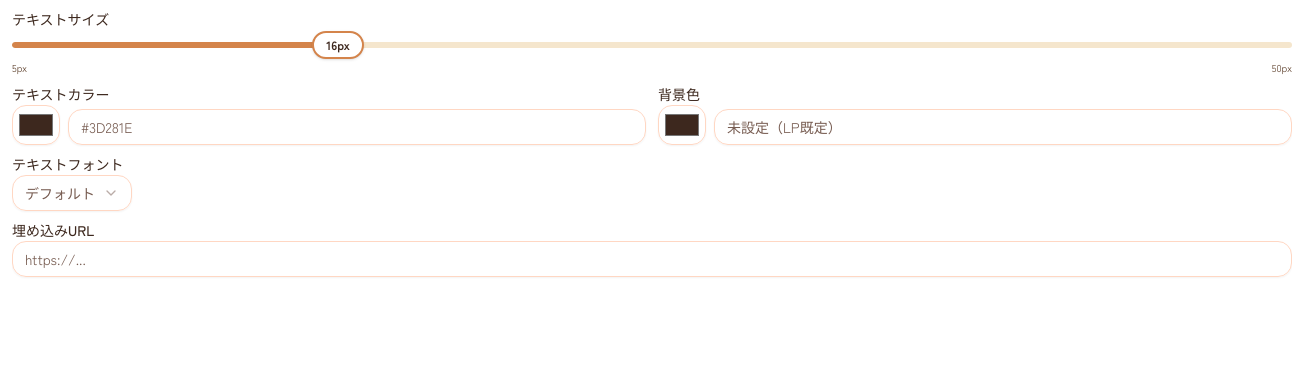
Test: FieldStyleEditor › テキストフォントの選択肢に Noto Serif JP が表示される
Expected: the text "テキストフォント" is shown, x1=12 y1=154 x2=124 y2=174
Click the dropdown: click(72, 193) x1=12 y1=175 x2=132 y2=211
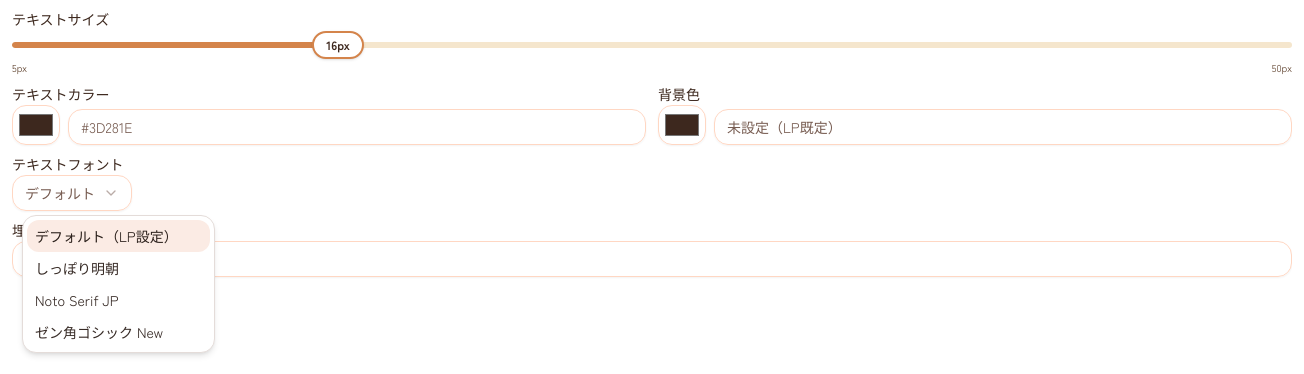
Expected: the text "Noto Serif JP" is shown, x1=35 y1=290 x2=118 y2=310
